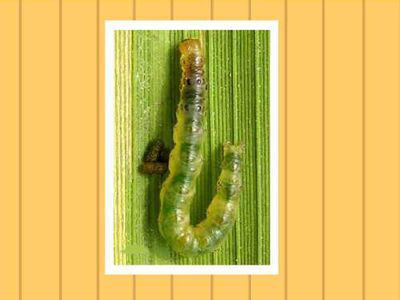pest: (157, 38, 242, 258)
